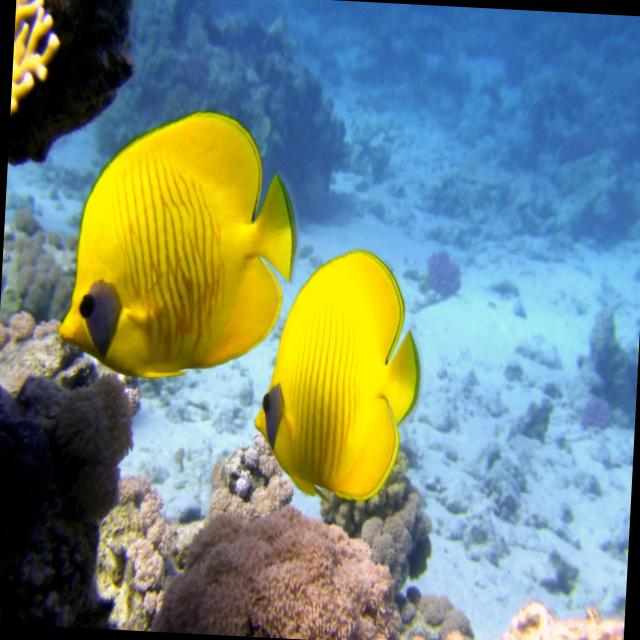ButterflyFish: (59, 105, 300, 384), (248, 250, 426, 512)
